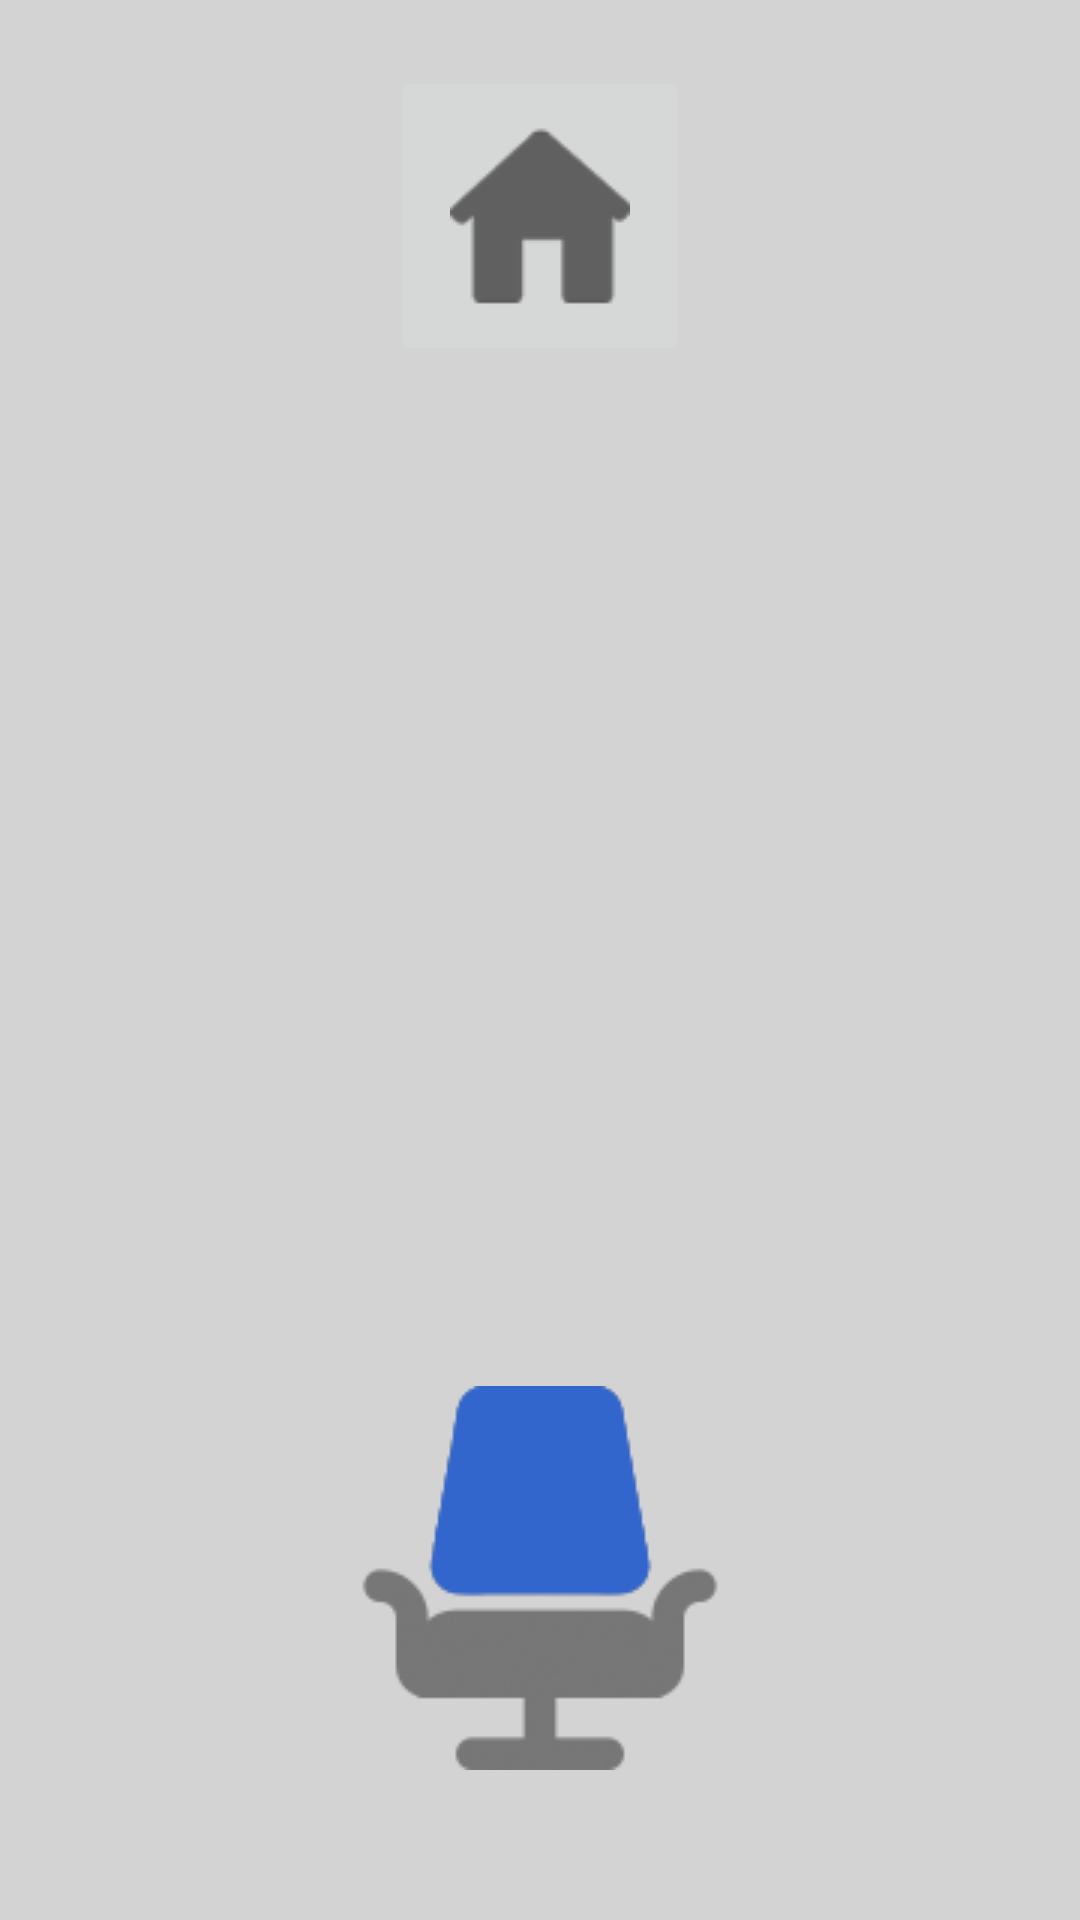

Locate icon controls on the screen. Image size 1080 × 1920, boxes as (x1, y1, x2, y2).
house: (450, 129, 630, 304)
